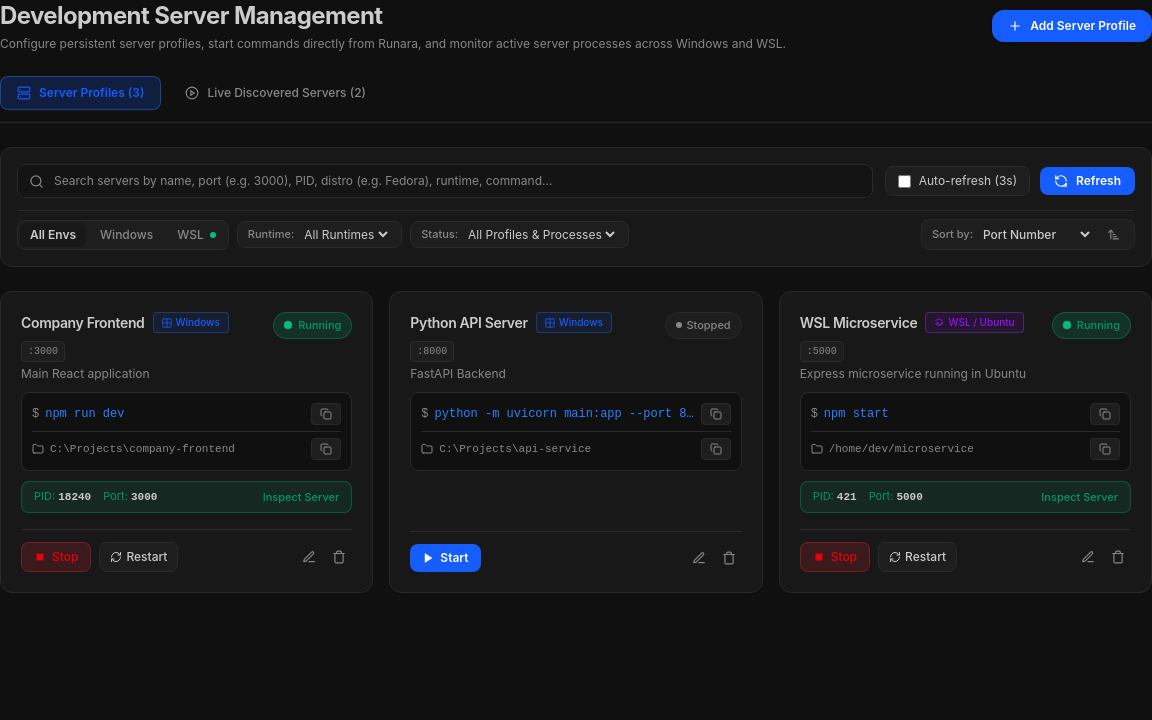
Test: Servers & Profiles Management (Milestone 7) › displays Port Conflict Modal when starting a profile on an occupied port without killing owner
The image size is (1152, 720).
Expected: the heading "Python API Server" is shown, [410,312,528,332]
Click the button "Start" at coordinates (445, 558), box [410,544,480,572]
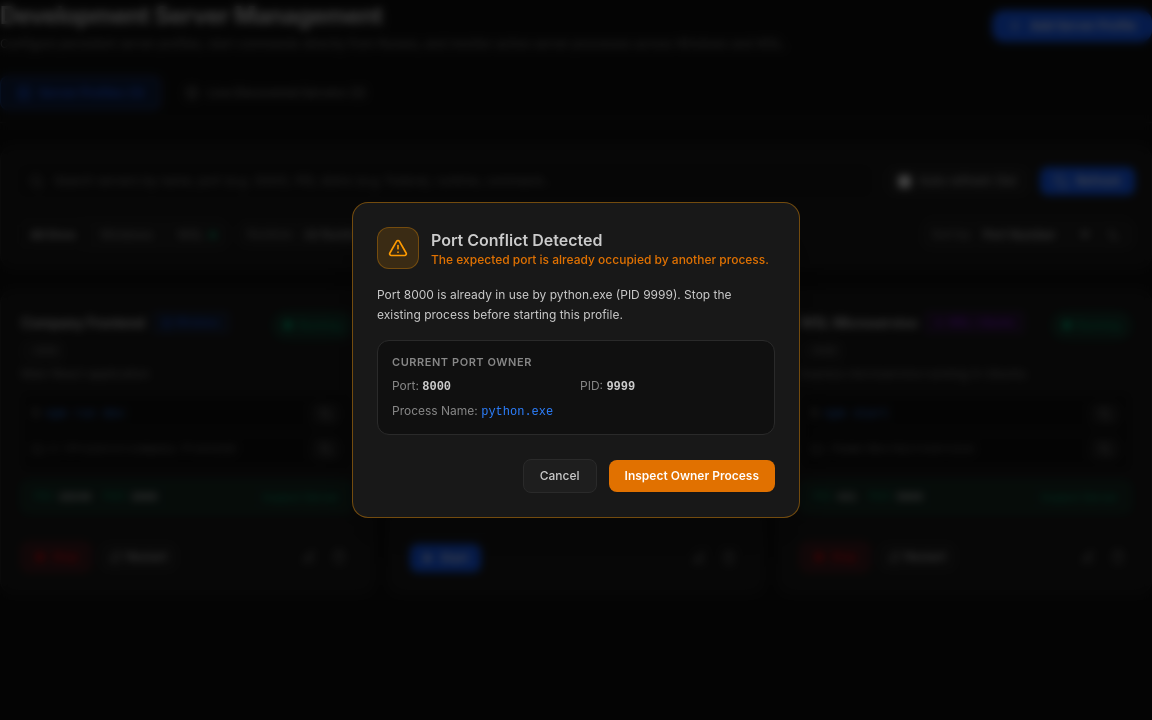
Expected: the heading "Port Conflict Detected" is shown, [431,230,602,250]
Expected: the text "The expected port is already occupied by another process." is shown, [431,252,769,268]
Expected: the text "9999" is shown, [377,287,732,322]
Note: Close conflict modal
Click the button "Cancel" at coordinates (560, 476), box [523,459,596,493]
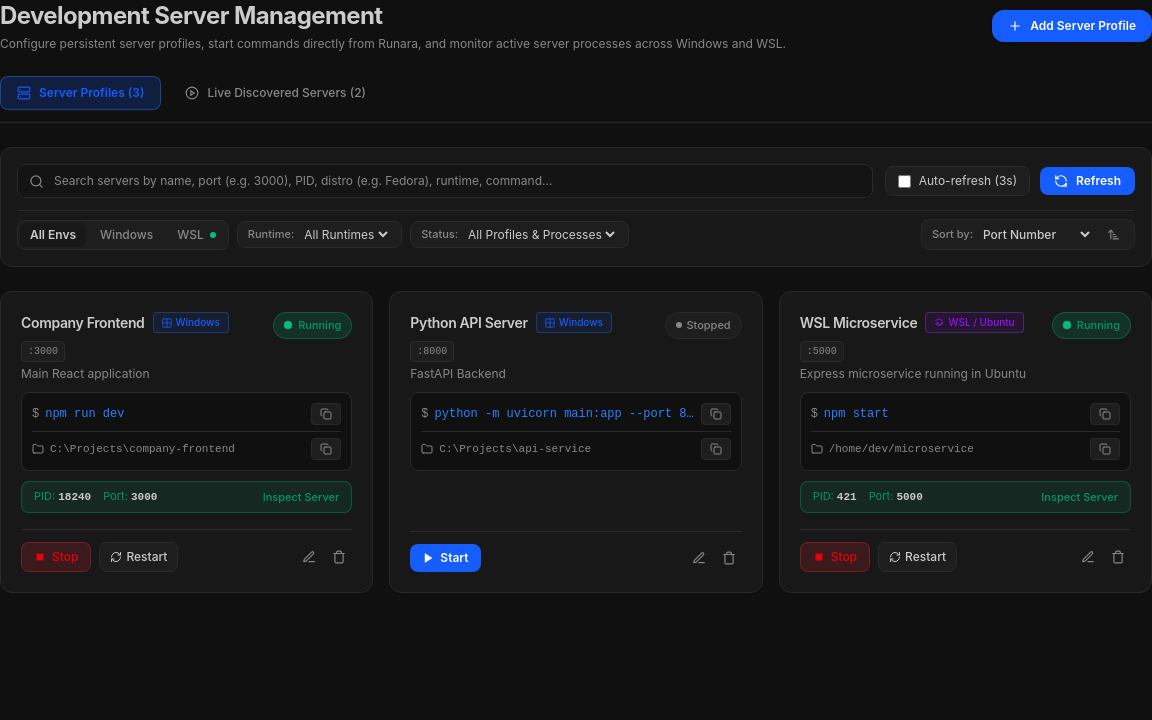
Expected: the heading "Port Conflict Detected" is gone
